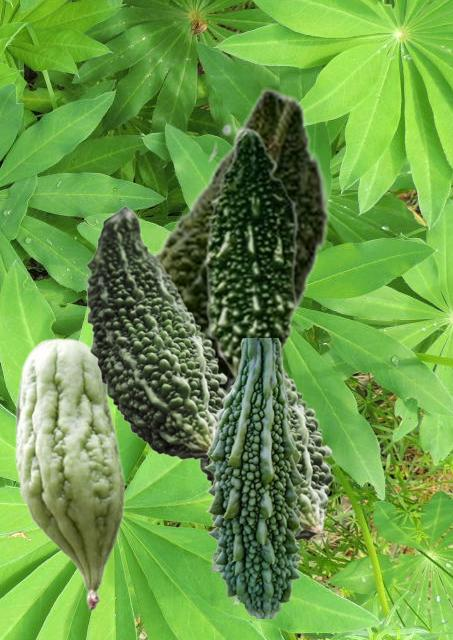ampalaya: (111, 87, 330, 402), (86, 205, 227, 459), (14, 337, 125, 610), (204, 338, 303, 617), (204, 123, 304, 381), (199, 367, 333, 540)
